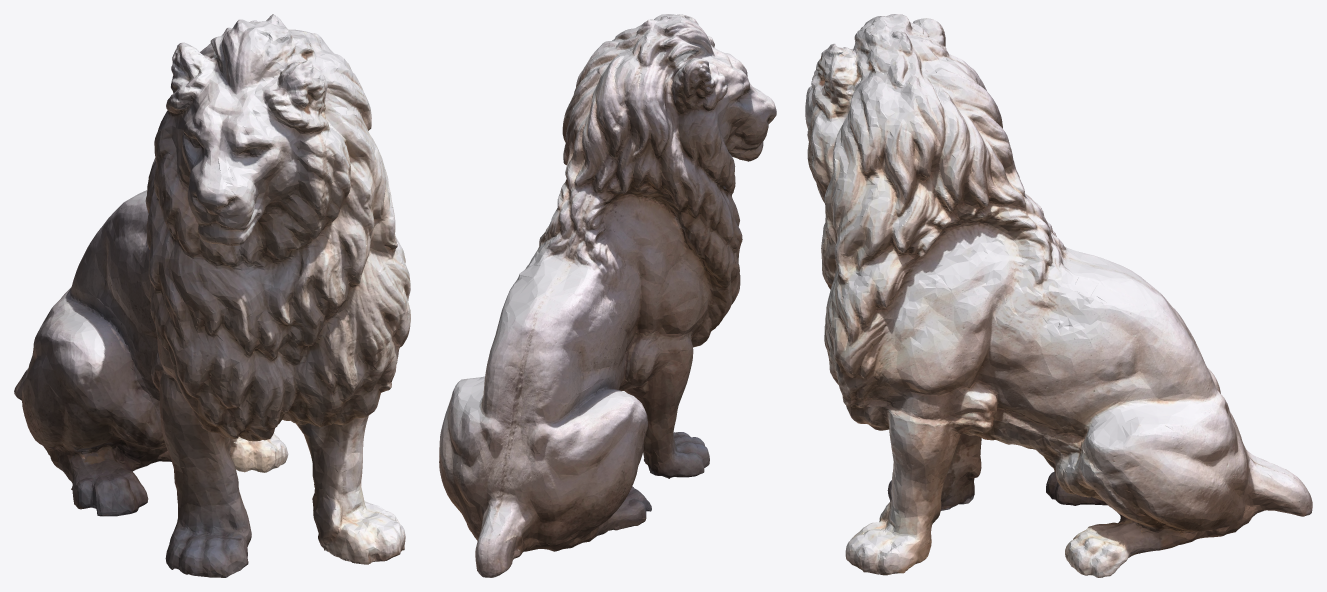
The model's file is lion_statue.glb.
The picture shows the model from 3 angles, left to right: view 1: azimuth 30°, elevation 25°; view 2: azimuth 150°, elevation 25°; view 3: azimuth 270°, elevation 25°; orthographic projection. The views are drawn at different scales.
Parts seen in each view (by area): view 1: LionStatueScan; view 2: LionStatueScan; view 3: LionStatueScan.
Part boxes in pixels (x1,y1,x2,y2): LionStatueScan: [14, 14, 410, 577]; LionStatueScan: [439, 14, 776, 577]; LionStatueScan: [805, 14, 1312, 577].
Size of the model in its own units: 1.38 by 3.03 by 2.81.
Materials: 1 (1 with a texture image).
